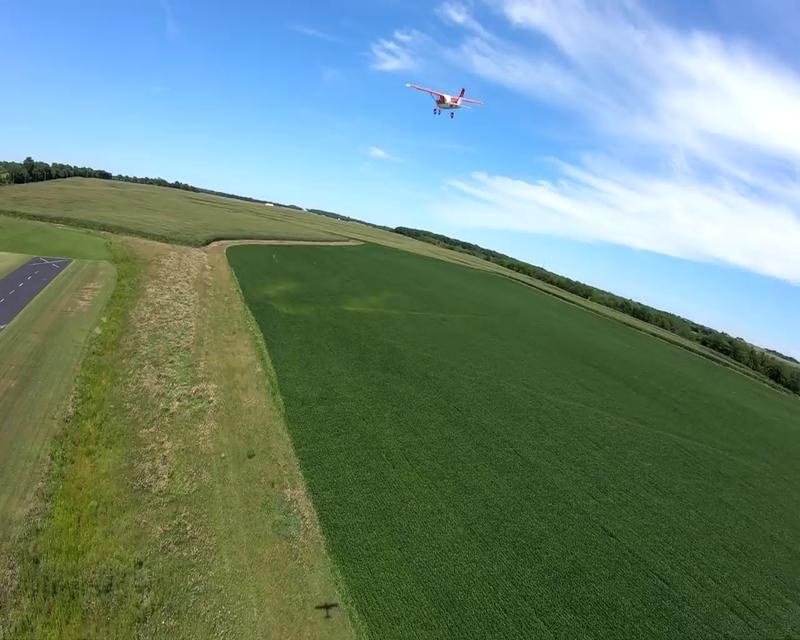UAV: (404, 82, 483, 119)
